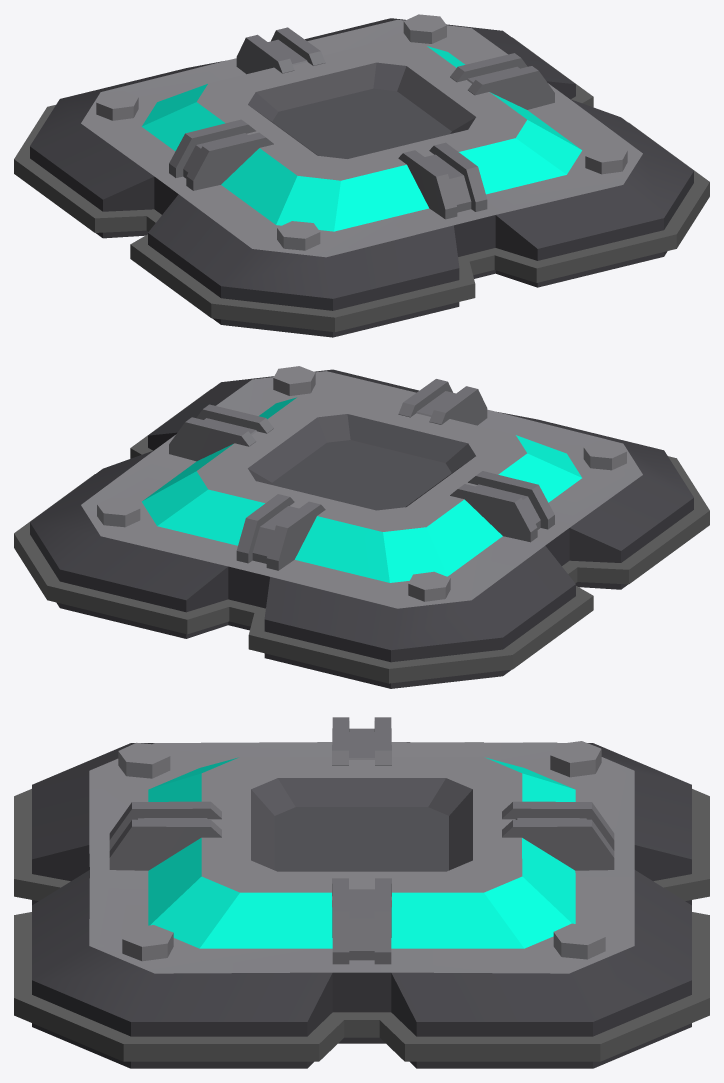
The model's file is worlds_SM_Prop_PowerCellCharger_02.gltf.
The picture shows the model from 3 angles, top to bottom: view 1: azimuth 30°, elevation 25°; view 2: azimuth 150°, elevation 25°; view 3: azimuth 270°, elevation 25°; orthographic projection. The views are drawn at different scales.
Visible parts, largest first — view 1: SM_Prop_PowerCellCharger_02; view 2: SM_Prop_PowerCellCharger_02; view 3: SM_Prop_PowerCellCharger_02.
Boxes of the visible parts, x1,y1,x2,y2 form: SM_Prop_PowerCellCharger_02: (14,14,709,337); SM_Prop_PowerCellCharger_02: (14,366,709,688); SM_Prop_PowerCellCharger_02: (14,717,709,1068).
Bounding box in the file's own units: 0.7291 × 0.1329 × 0.7291.
1 material, 1 textured.
